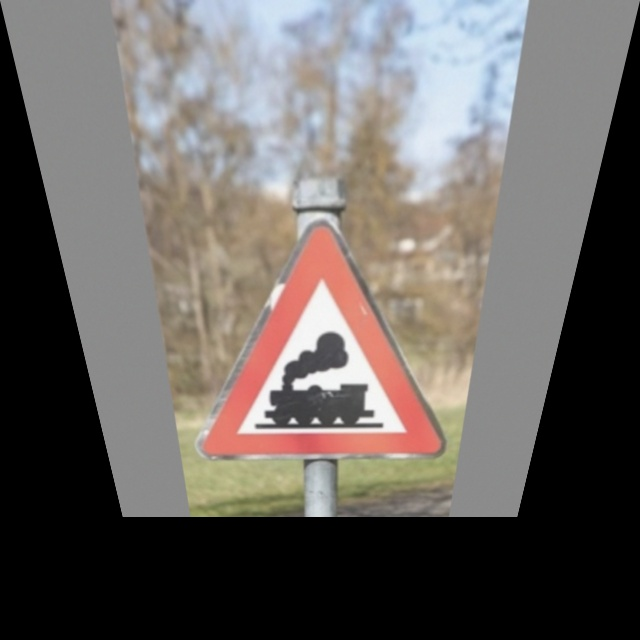Unguarded_Level_Crossing: (162, 220, 476, 458)
